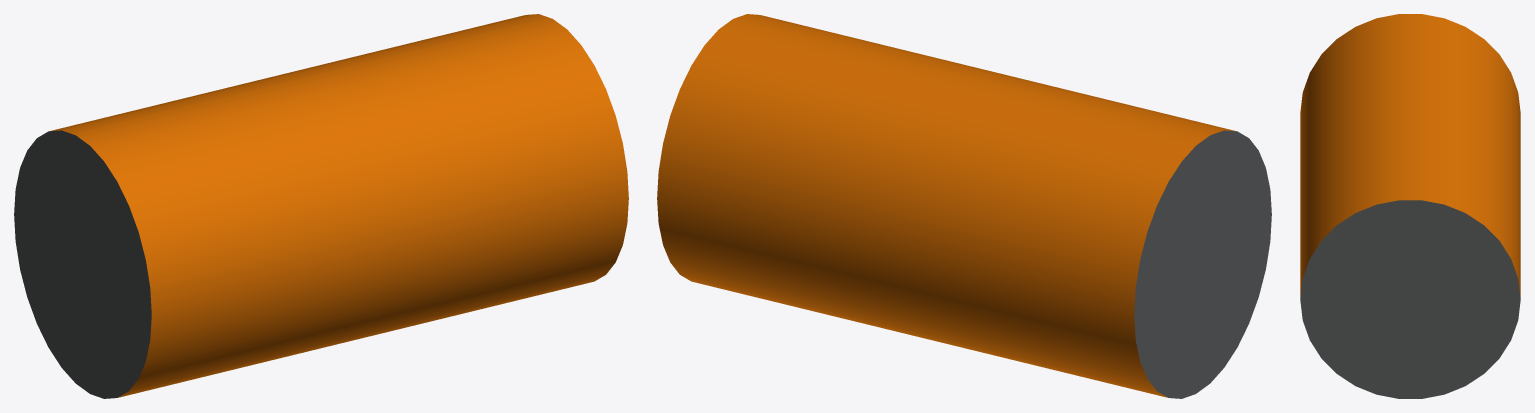
The picture shows the model from 3 angles, left to right: view 1: azimuth 30°, elevation 25°; view 2: azimuth 150°, elevation 25°; view 3: azimuth 270°, elevation 25°; orthographic projection. The views are drawn at different scales.
Visible parts, largest first — view 1: a1_LOD0, a1_col; view 2: a1_LOD0, a1_col; view 3: a1_LOD0, a1_col.
Part boxes in pixels (bbox=[...]): a1_LOD0: bbox=[14, 14, 628, 398]; a1_col: bbox=[14, 131, 149, 398]; a1_LOD0: bbox=[657, 14, 1271, 398]; a1_col: bbox=[1134, 130, 1271, 398]; a1_LOD0: bbox=[1300, 14, 1520, 398]; a1_col: bbox=[1300, 204, 1519, 394].
Size of what is drawn, in the model's own units: 24 by 11.93 by 12.
